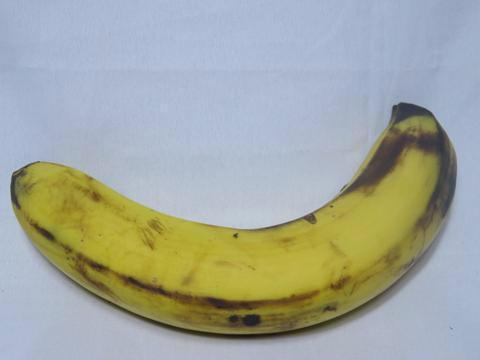ripe: (7, 80, 475, 347)
